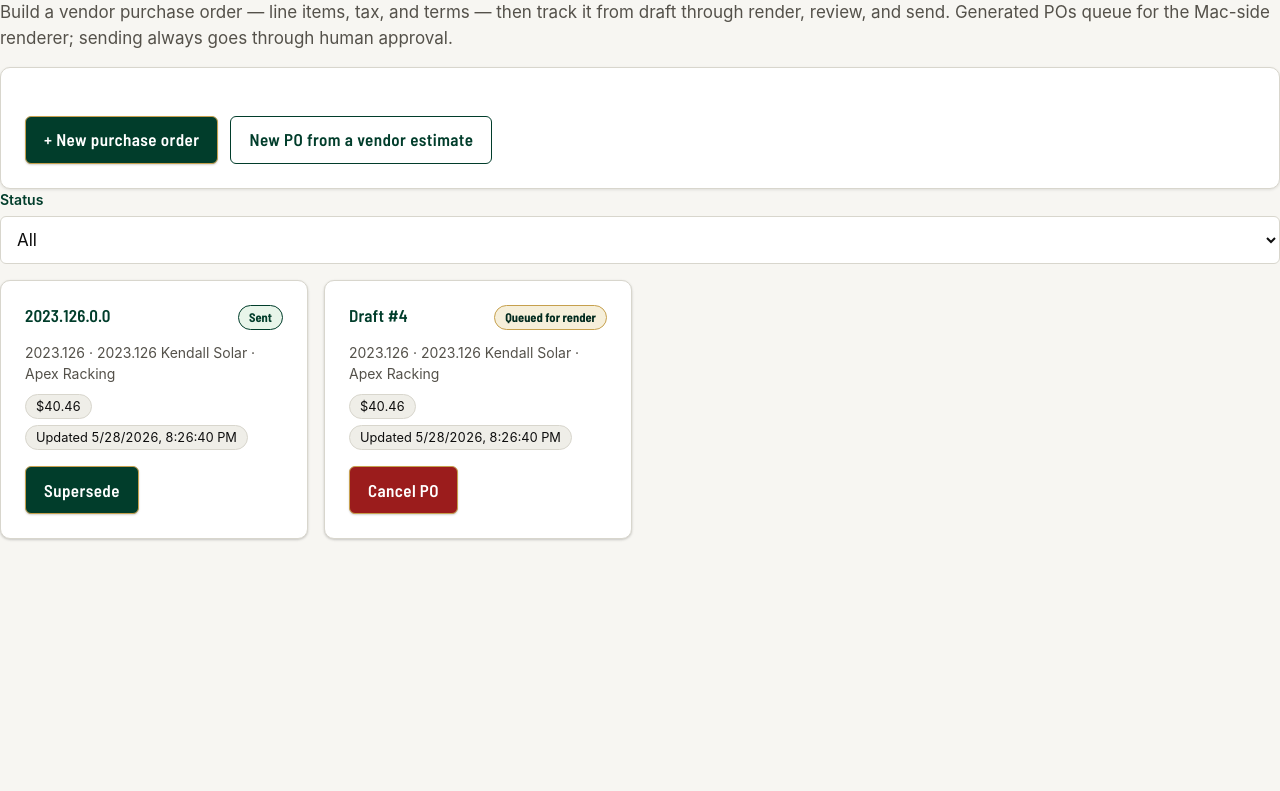
Test: PoBuilderPage › tracker actions follow the state machine: sent → Supersede (opens the clone draft)
Expected: the heading "2023.126.0.0" is shown, [25, 305, 111, 325]
Expected: the button "Cancel PO" is shown, [349, 466, 458, 514]
What coordinates should you click on to do the following:
click the button "Supersede"
I would click on:
 (82, 490)
Its box is [25, 466, 139, 514].
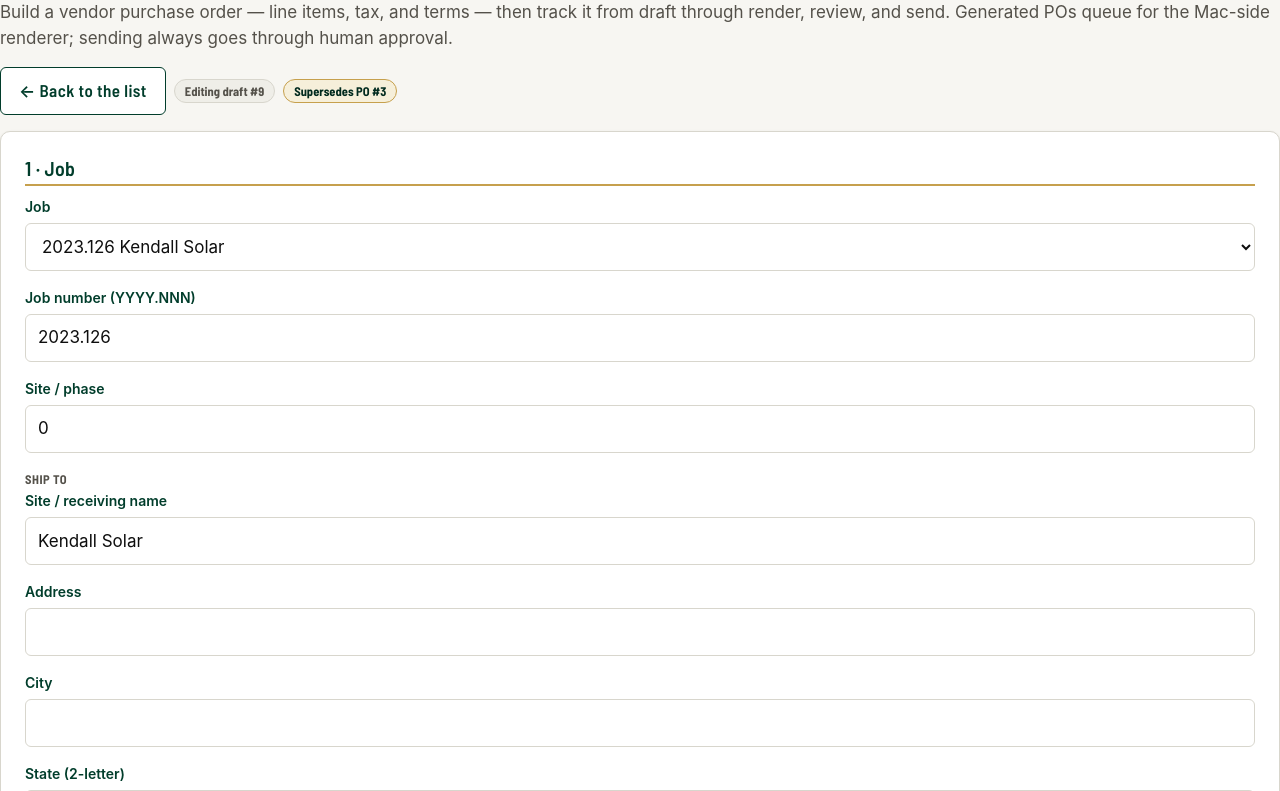
Expected: the text "Supersedes PO #3" is shown, [283, 79, 397, 103]
Expected: the text "Editing draft #9" is shown, [174, 79, 275, 103]
